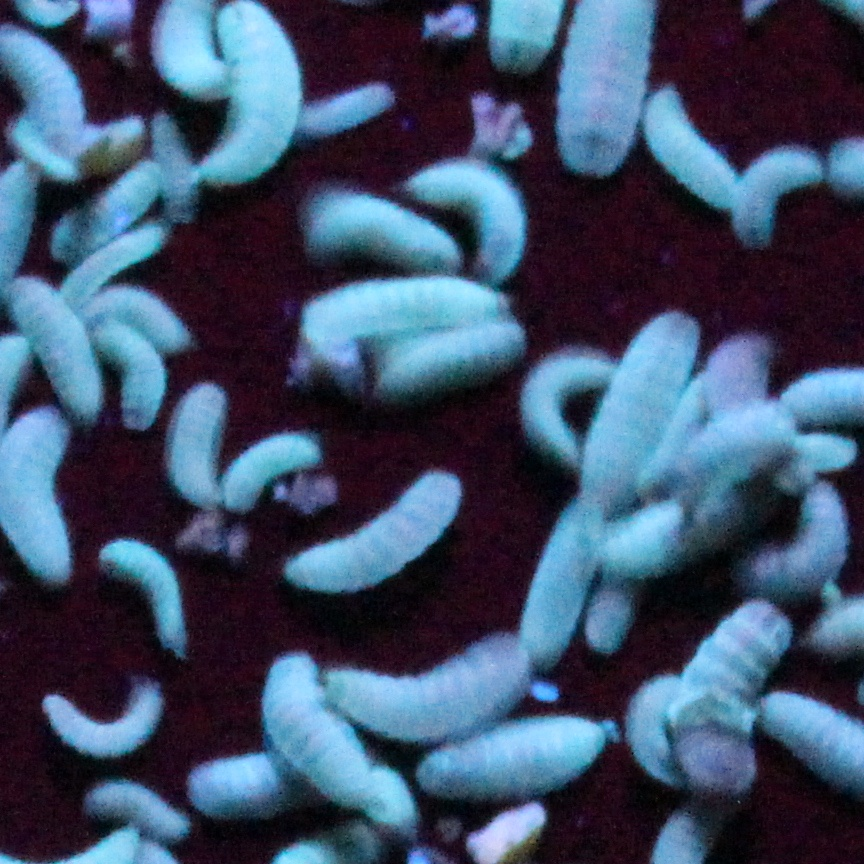larve: (265, 657, 414, 842), (322, 630, 533, 749), (281, 469, 465, 593), (592, 302, 698, 510), (300, 282, 508, 365), (432, 718, 612, 806), (205, 9, 293, 182), (398, 163, 522, 277), (737, 481, 851, 596), (522, 504, 600, 669), (514, 344, 616, 467), (15, 280, 105, 416), (682, 404, 796, 510), (604, 489, 735, 581), (647, 87, 740, 214), (308, 192, 459, 270), (366, 321, 522, 394), (54, 160, 164, 255), (100, 542, 188, 655), (41, 683, 165, 757), (190, 759, 339, 820), (735, 150, 815, 258), (220, 434, 324, 516), (694, 332, 777, 424), (171, 383, 230, 510), (98, 321, 169, 426), (82, 775, 196, 838), (88, 287, 193, 350), (288, 87, 398, 141), (147, 119, 198, 226), (588, 581, 632, 651)
